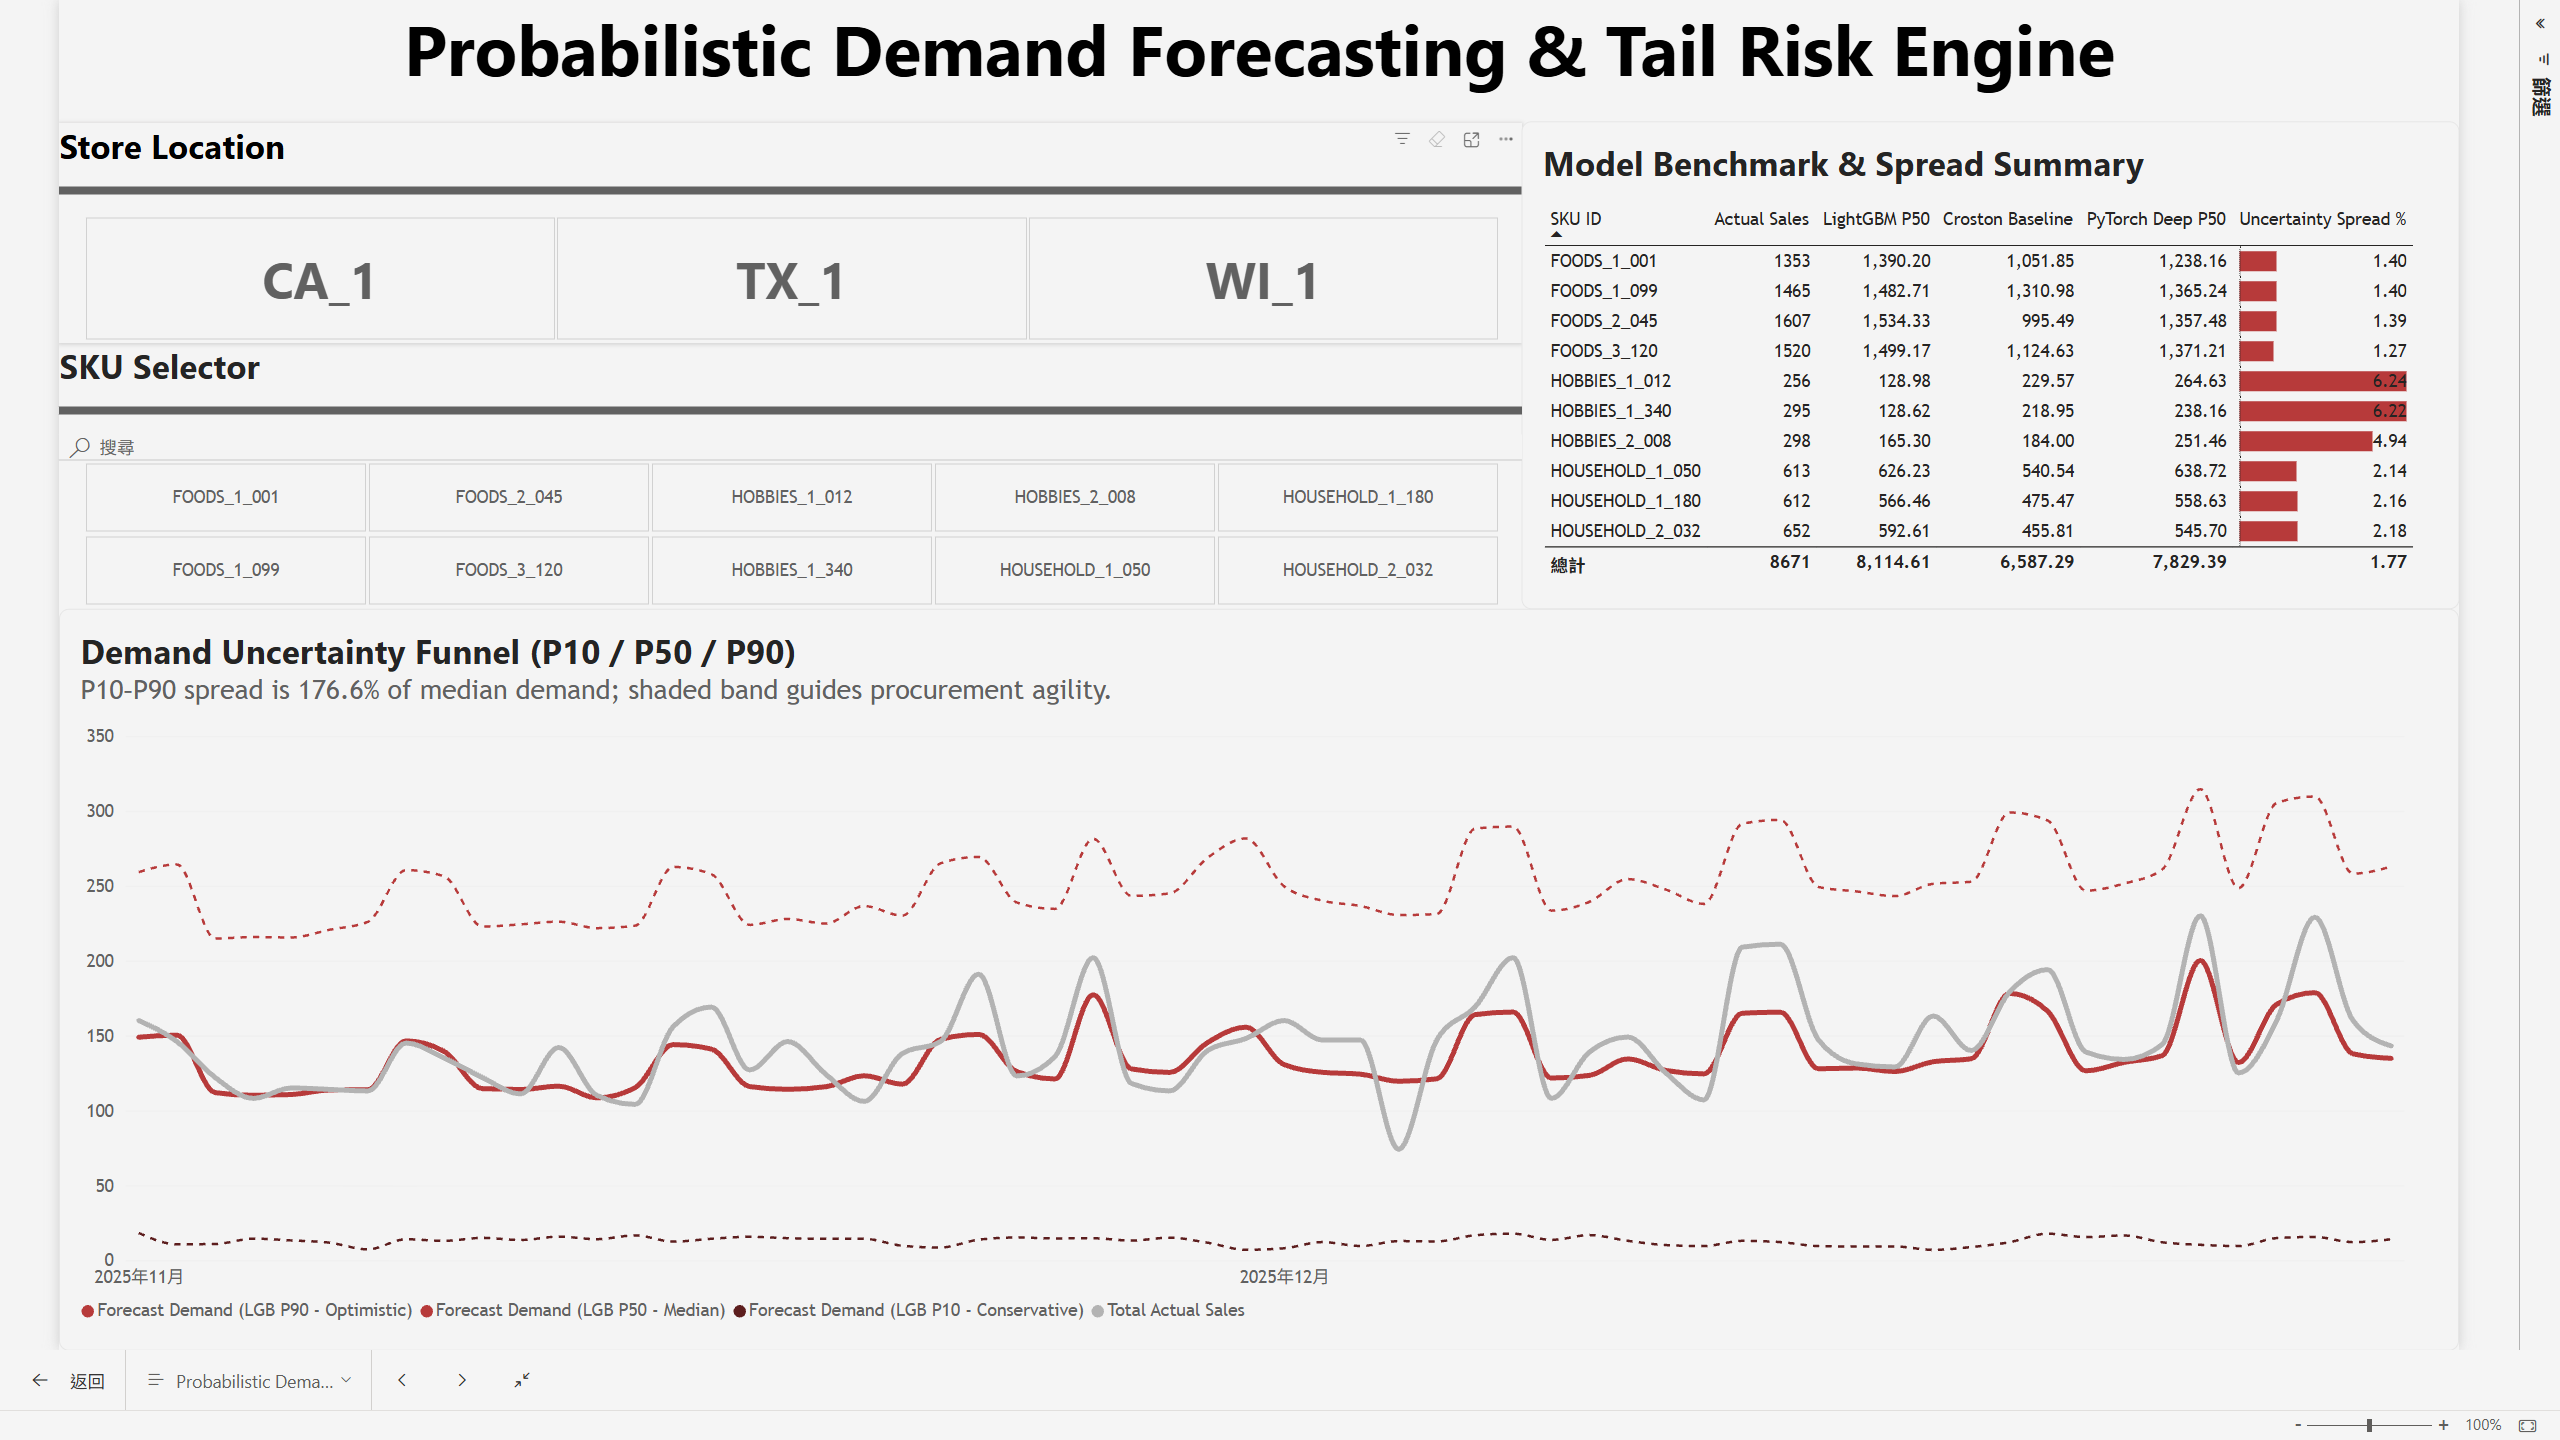

What the dashboard file says about the page in this screenshot:
{"tool":"powerbi","page":{"name":"Probabilistic Demand Forecasting & Tail Risk Engine","canvas":[1920,1080],"ordinal":1},"visuals":[{"type":"slicer","title":"Store Location","fields":{"Values":["Dim_Store.Store_ID"]},"box":[0,98,1170,176],"z":0},{"type":"lineChart","title":"Demand Uncertainty Funnel (P10 / P50 / P90)","fields":{"Category":["Dim_Date.Date"],"Y":["_Measures.Forecast Demand (LGB P90 - Optimistic)","_Measures.Forecast Demand (LGB P50 - Median)","_Measures.Forecast Demand (LGB P10 - Conservative)","_Measures.Total Actual Sales"]},"box":[0,486.7,1920,593.3],"z":1000},{"type":"tableEx","title":"Model Benchmark & Spread Summary","fields":{"Values":["Dim_Product.Item_ID","_Measures.Total Actual Sales","_Measures.Forecast Demand (LGB P50 - Median)","_Measures.Forecast Demand (Croston Baseline)","_Measures.Forecast Demand (Deep Probabilistic)","_Measures.Uncertainty Spread %"]},"box":[1170,96.7,750,390],"z":2000},{"type":"textbox","box":[0,0,1920,96],"z":3000},{"type":"slicer","title":"SKU Selector","fields":{"Values":["Dim_Product.Item_ID"]},"box":[0,274,1170,212],"z":4000}]}

Visuals, with their boxes on the page's 1920x1080 design canvas (x1, y1, x2, y2). These are canvas units, not pixel positions in the 2560x1440 screenshot, which may show the page scaled, cropped or inside an application window:
"Store Location" slicer: [0,98,1170,274]
"Demand Uncertainty Funnel (P10 / P50 / P90)" lineChart: [0,487,1920,1080]
"Model Benchmark & Spread Summary" tableEx: [1170,97,1920,487]
textbox: [0,0,1920,96]
"SKU Selector" slicer: [0,274,1170,486]
